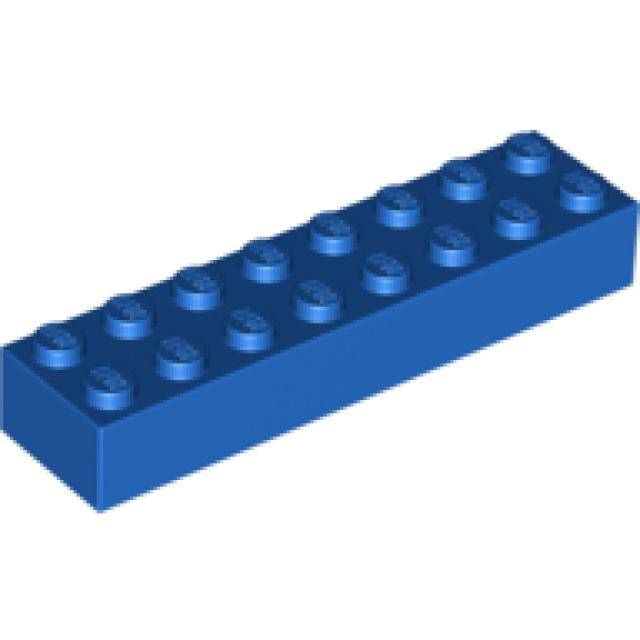Blue_Large: (0, 130, 640, 517)
